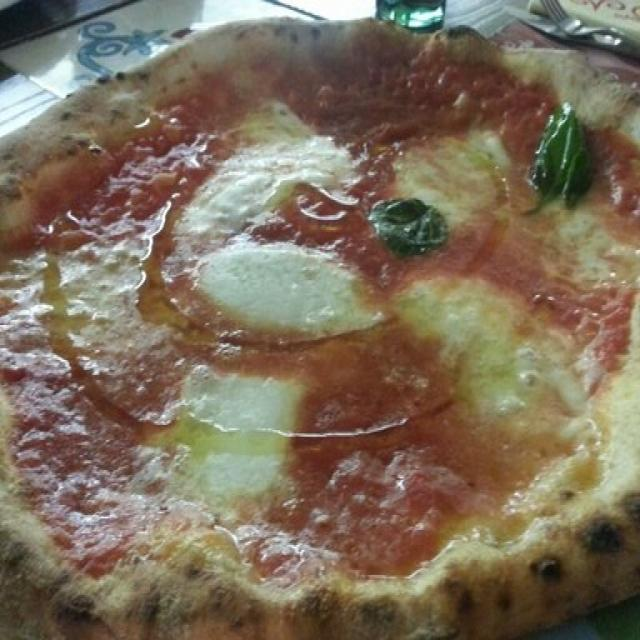Basil: (520, 104, 594, 211), (361, 191, 456, 255)
Cheese: (179, 376, 308, 489), (203, 254, 347, 328), (203, 139, 326, 211)
Pizza: (0, 20, 640, 640)
